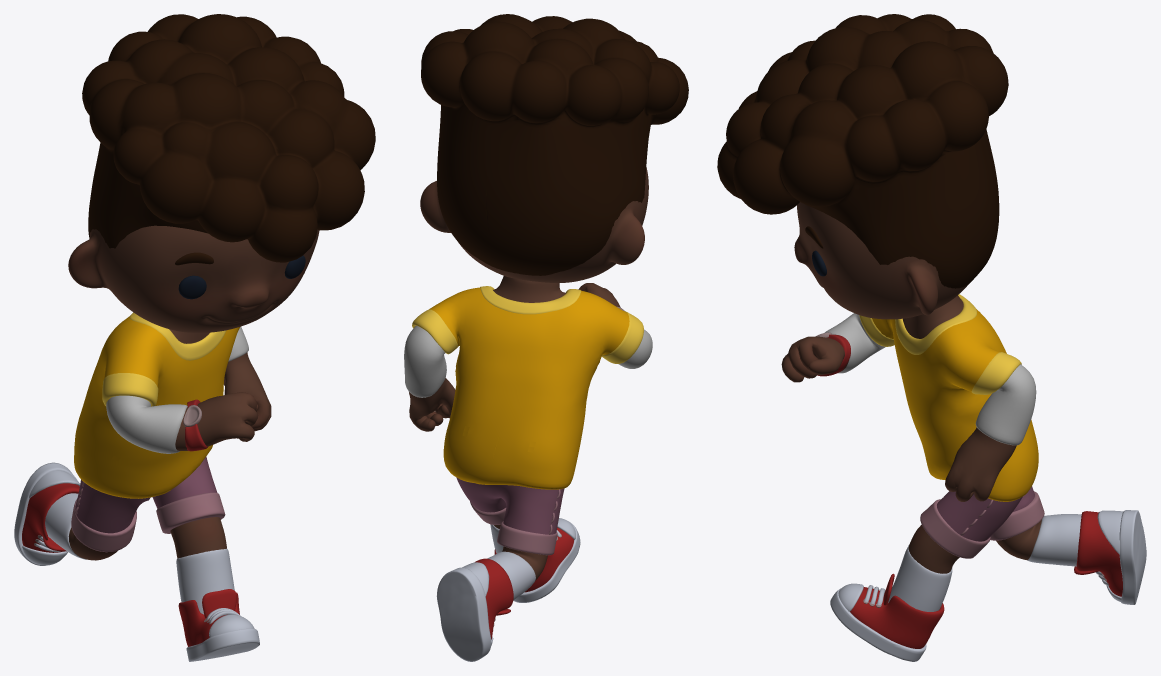
The model's file is asset.glb.
3 renders of one model, left to right at view 1: azimuth 30°, elevation 25°; view 2: azimuth 150°, elevation 25°; view 3: azimuth 270°, elevation 25°, orthographic. The views are drawn at different scales.
Parts seen in each view (by area): view 1: Running_poseobjcleanermaterialmergergles; view 2: Running_poseobjcleanermaterialmergergles; view 3: Running_poseobjcleanermaterialmergergles.
Boxes of the visible parts, x1,y1,x2,y2 form: Running_poseobjcleanermaterialmergergles: (14, 14, 375, 661); Running_poseobjcleanermaterialmergergles: (404, 14, 688, 661); Running_poseobjcleanermaterialmergergles: (717, 14, 1146, 661).
Bounding box in the file's own units: 0.1872 × 0.4529 × 0.2844.
Materials: 1 (1 with a texture image).
